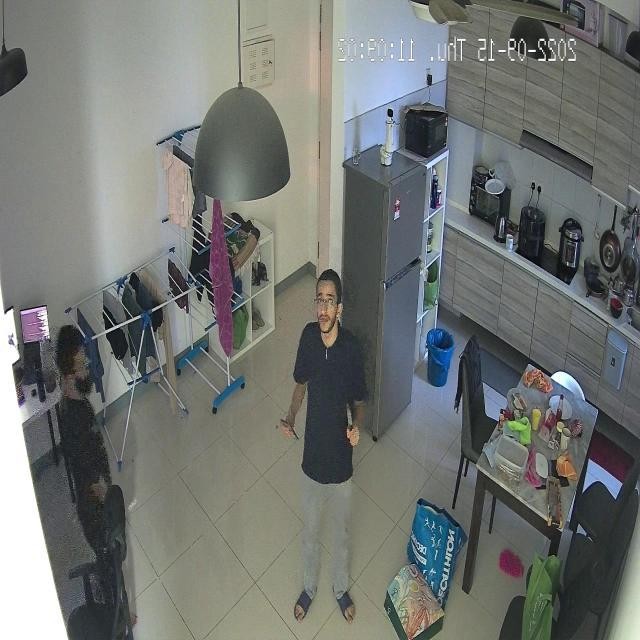Knife: (343, 399, 362, 447)
